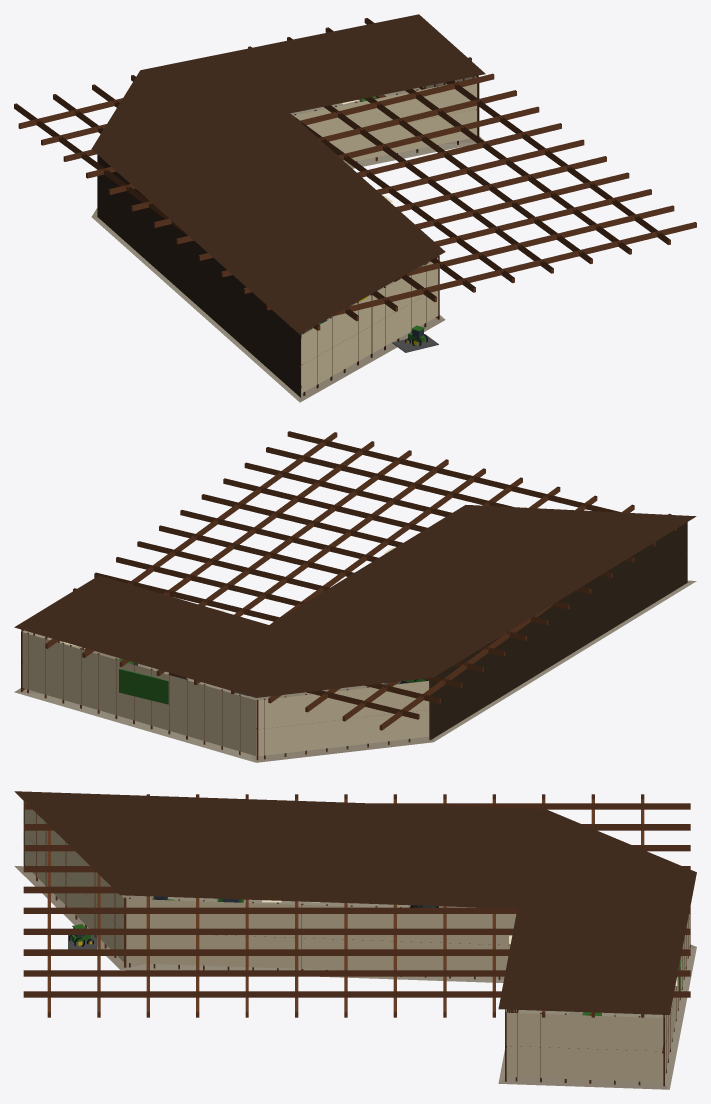
File: deerehq_int.glb
3 renders of one model, top to bottom at view 1: azimuth 30°, elevation 25°; view 2: azimuth 150°, elevation 25°; view 3: azimuth 270°, elevation 25°, orthographic. The views are drawn at different scales.
Parts seen in each view (by area): view 1: deerehq_int; view 2: deerehq_int; view 3: deerehq_int.
Boxes of the visible parts, x1,y1,x2,y2 form: deerehq_int: (14, 14, 696, 402); deerehq_int: (14, 431, 696, 762); deerehq_int: (14, 791, 696, 1089).
Size of the model in its own units: 64.3 by 10 by 82.9.
